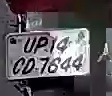1: (49, 35, 58, 53)
4: (55, 36, 69, 54), (60, 55, 73, 72), (73, 54, 84, 72)
6: (48, 56, 61, 72)
7: (38, 56, 49, 74)
C: (9, 56, 24, 75)
D: (22, 58, 36, 76)
P: (32, 35, 50, 55)
U: (18, 36, 36, 55)
